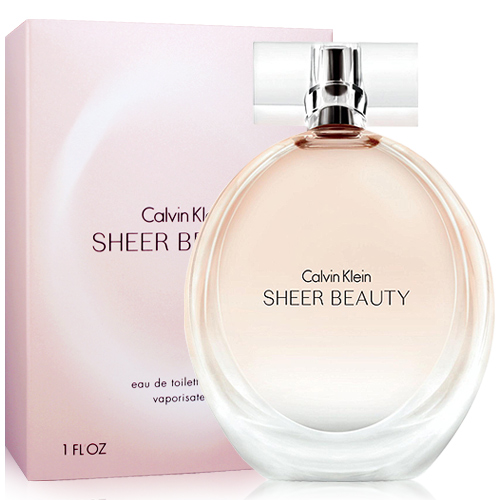Calvin Klein: (288, 261, 384, 289)
